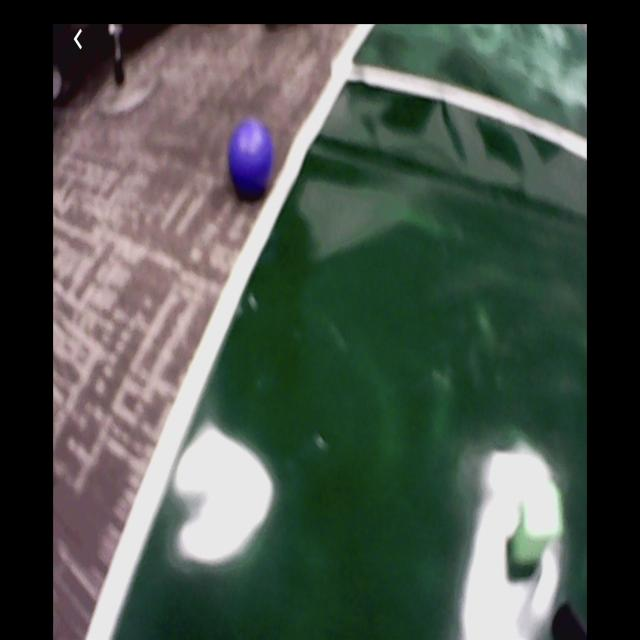ball: (231, 121, 274, 195)
